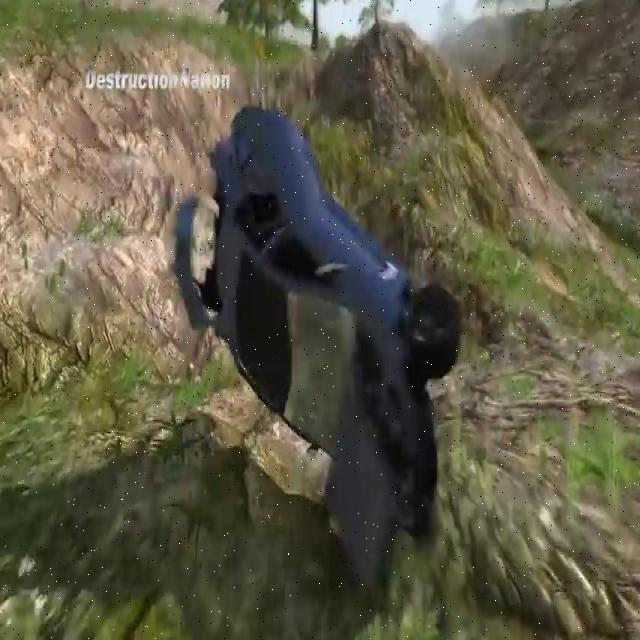severe: (172, 93, 462, 596)
